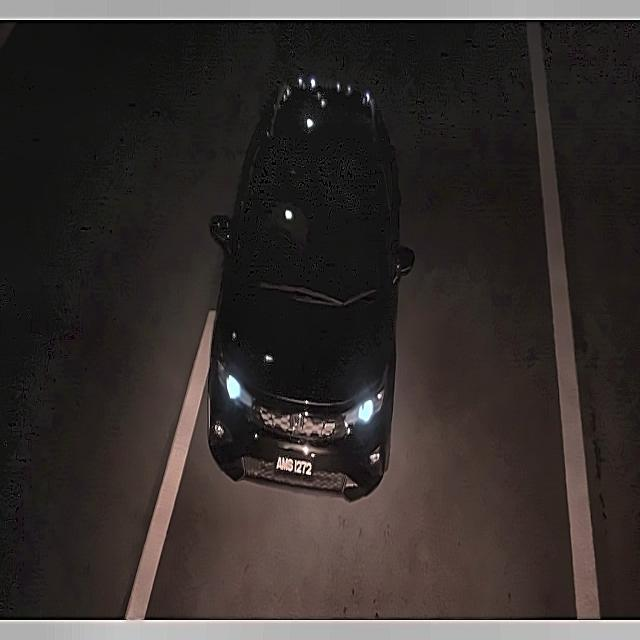car: (271, 444, 316, 489)
